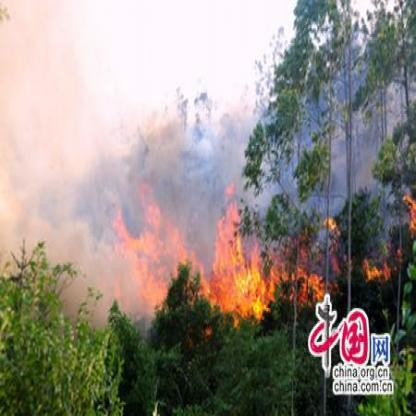fire: (110, 154, 414, 322)
smoke: (0, 0, 109, 322)
